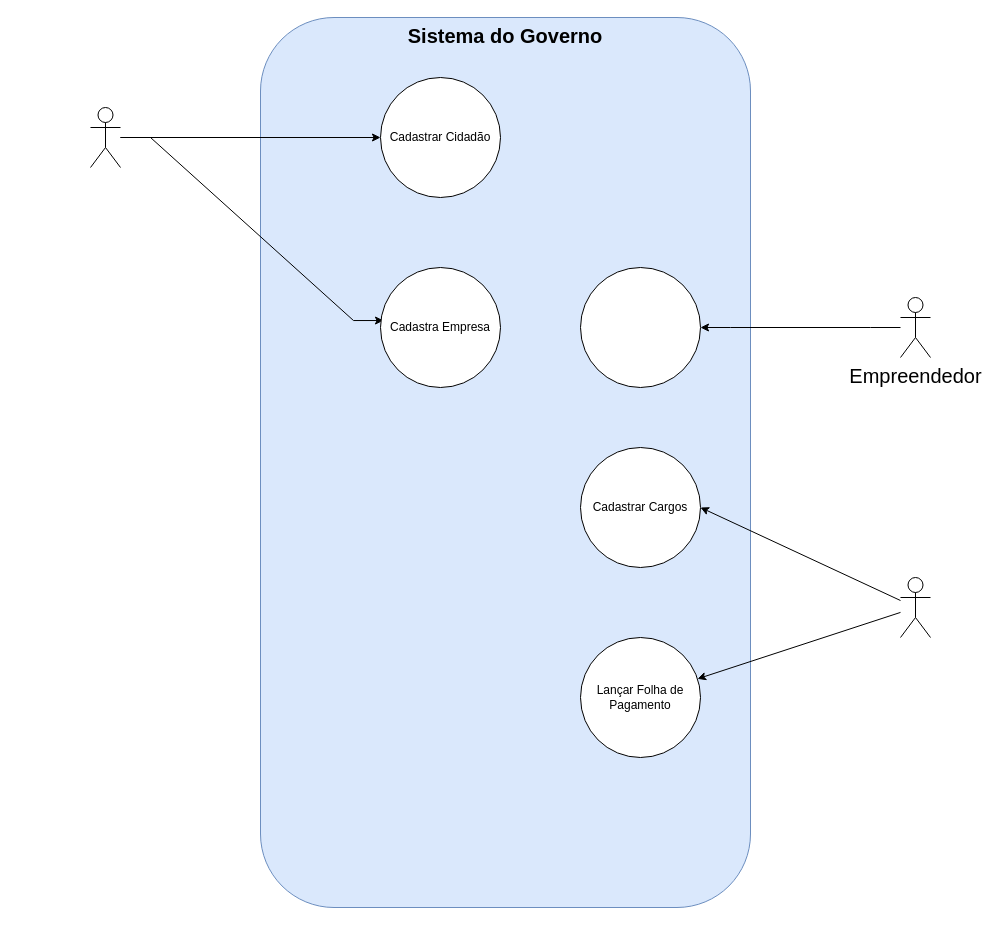
This 999x925 diagram has some shape labels left out. Here are the shapes that lost their labels. From the top down, the centre of each, then its label:
pixel 105 137: Funcionário Público
pixel 640 327: Empregar Cidadão
pixel 915 607: Funcionário
